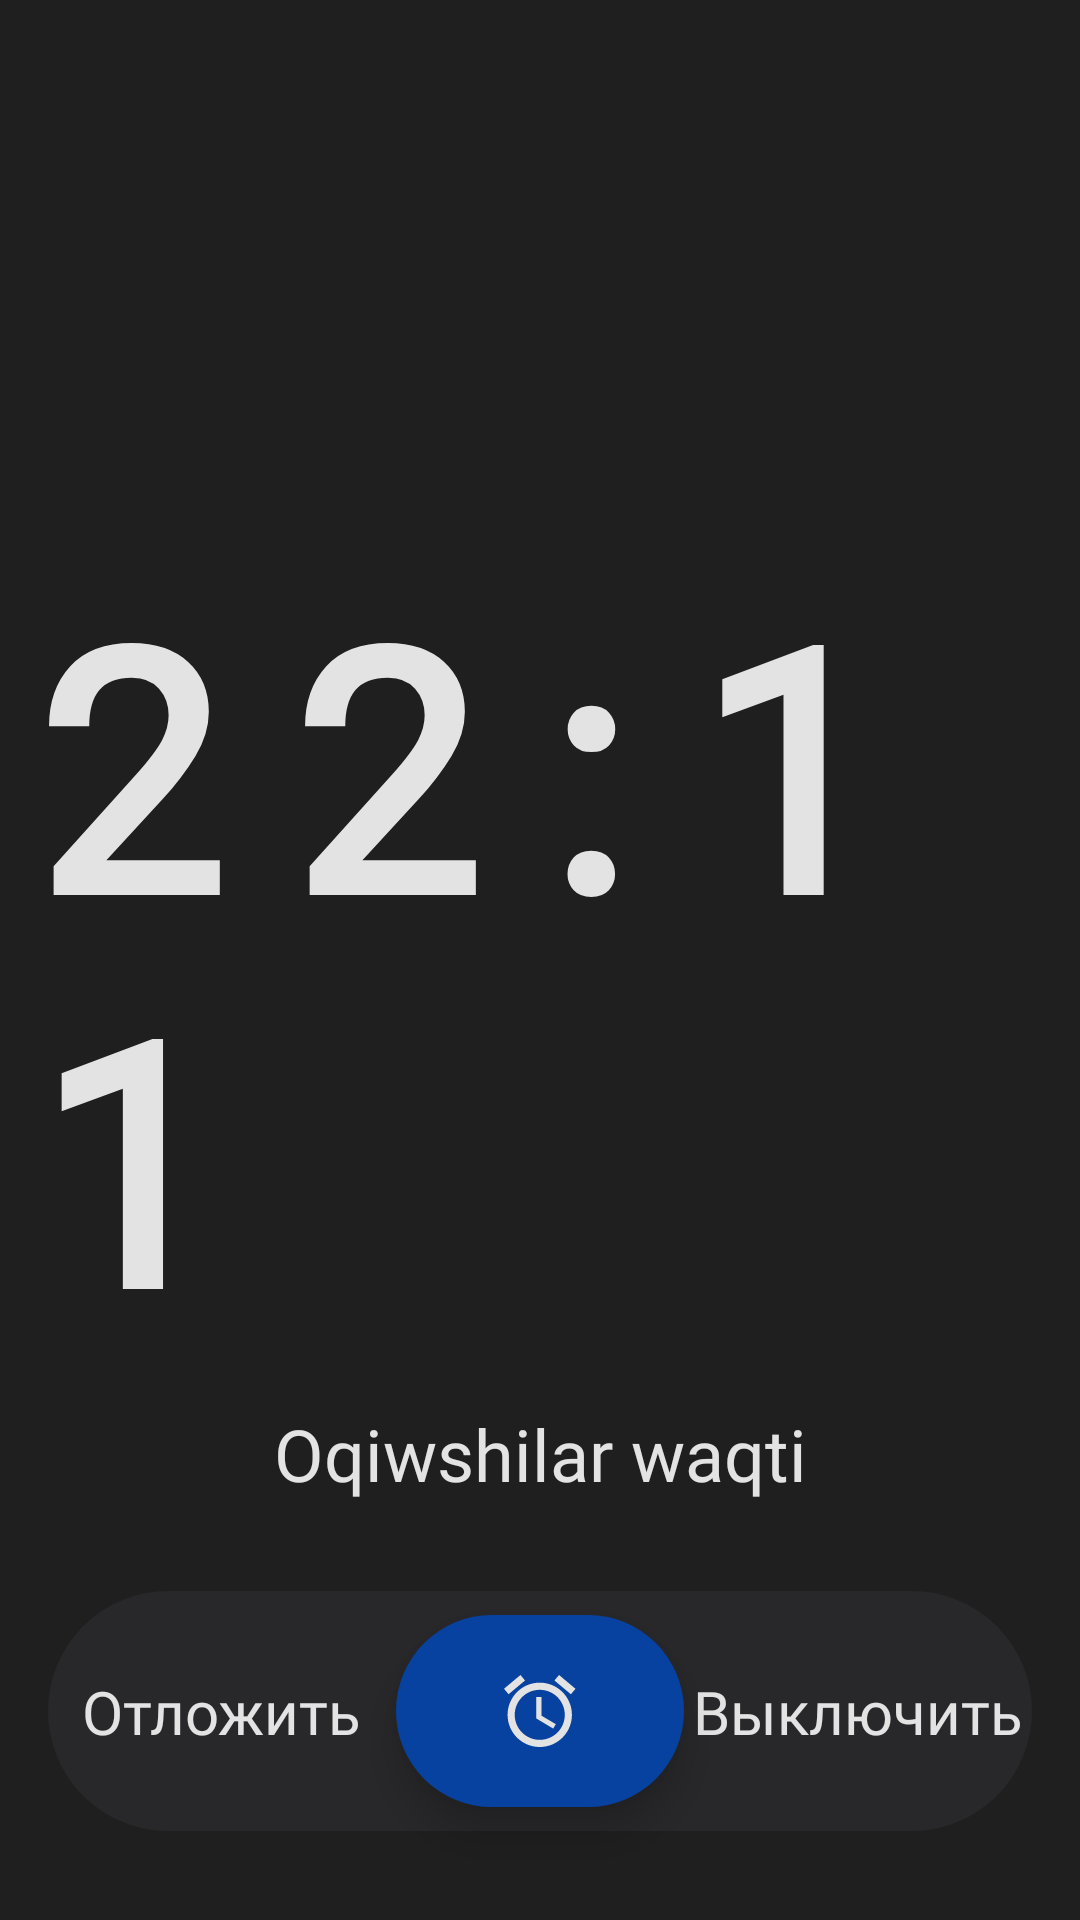

Point at icon controls on the screen. Image size 1080×1920, points as [x,y].
alarm: [540,1711]
